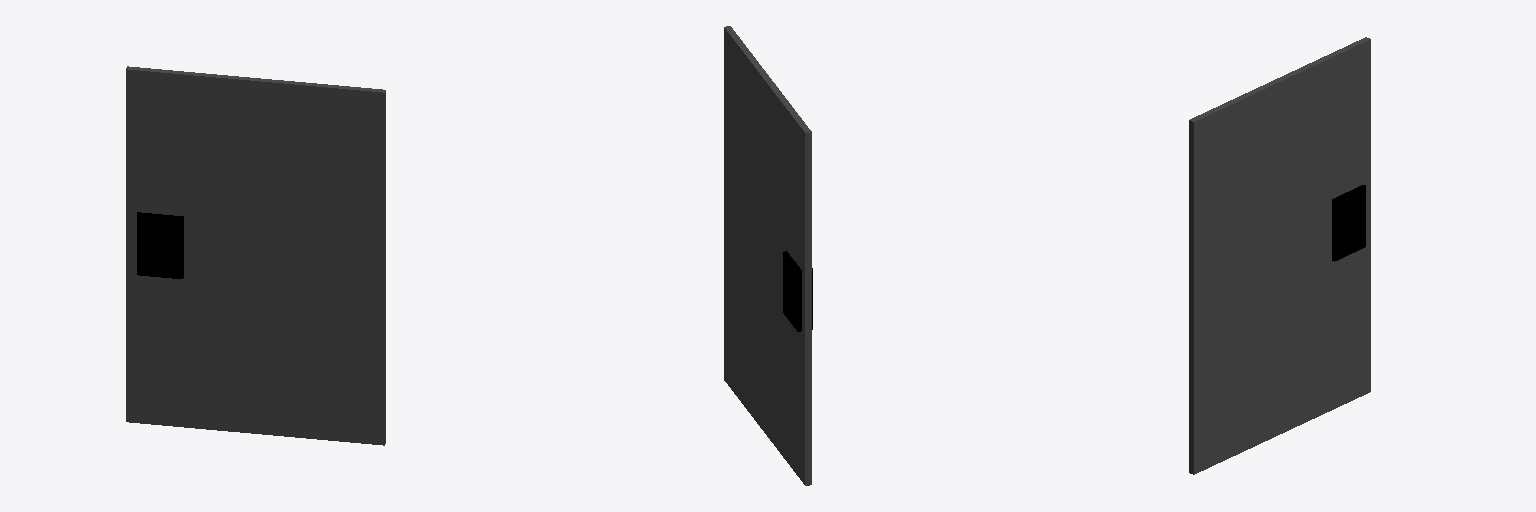
The picture shows the model from 3 angles: view 1: azimuth 30°, elevation 25°; view 2: azimuth 150°, elevation 25°; view 3: azimuth 270°, elevation 25°; orthographic projection.
Parts seen in each view (by area): view 1: PuertaVidrio2:pCube24; view 2: PuertaVidrio2:pCube24; view 3: PuertaVidrio2:pCube24.
Part boxes in pixels (bbox=[...]): PuertaVidrio2:pCube24: bbox=[126, 66, 385, 445]; PuertaVidrio2:pCube24: bbox=[724, 26, 812, 485]; PuertaVidrio2:pCube24: bbox=[1189, 37, 1370, 474].
Size of the model in its own units: 2.05 by 3.96 by 1.86.
2 materials, 1 textured.